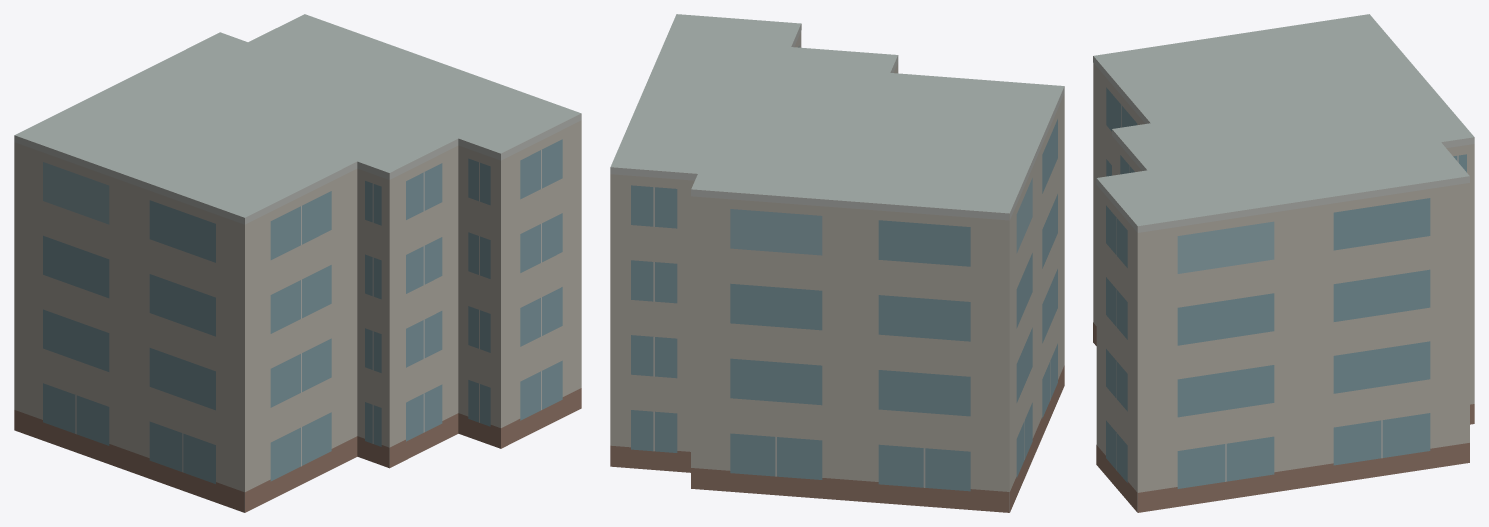
The model's file is survey-upis-32802331.glb.
3 views of the same model, side by side, from view 1: azimuth 30°, elevation 25°; view 2: azimuth 150°, elevation 25°; view 3: azimuth 270°, elevation 25° (orthographic). The views are drawn at different scales.
Parts seen in each view (by area): view 1: survey-upis-32802331.tmp; view 2: survey-upis-32802331.tmp; view 3: survey-upis-32802331.tmp.
Boxes of the visible parts, x1,y1,x2,y2 form: survey-upis-32802331.tmp: (14,14,581,512); survey-upis-32802331.tmp: (610,14,1064,512); survey-upis-32802331.tmp: (1093,14,1474,512).
Size of the model in its own units: 16.53 by 10.4 by 12.55.
